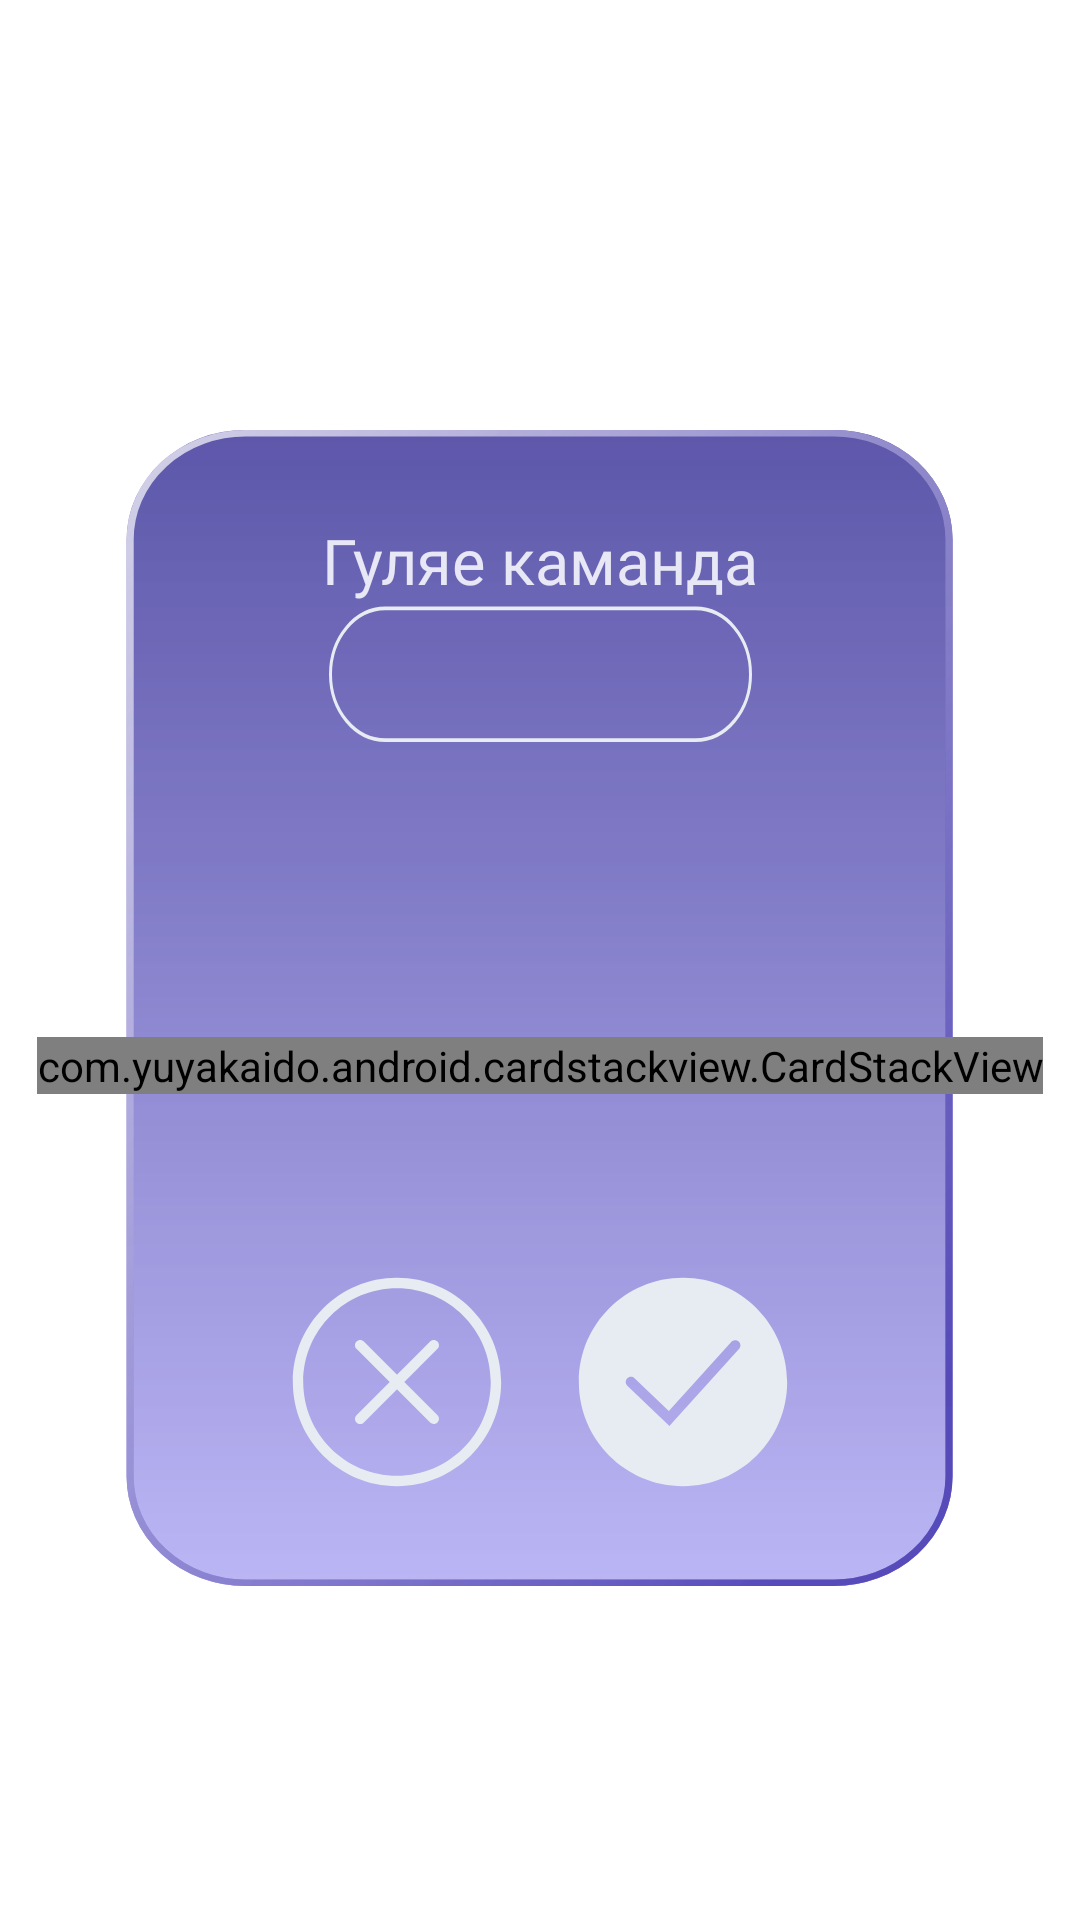

Screen size 1080*1920. Icon name, then its box in pixels as (x1, y1, x2, y2):
Accept word button: (579, 1278, 787, 1486)
Skip this word button: (293, 1278, 501, 1486)
